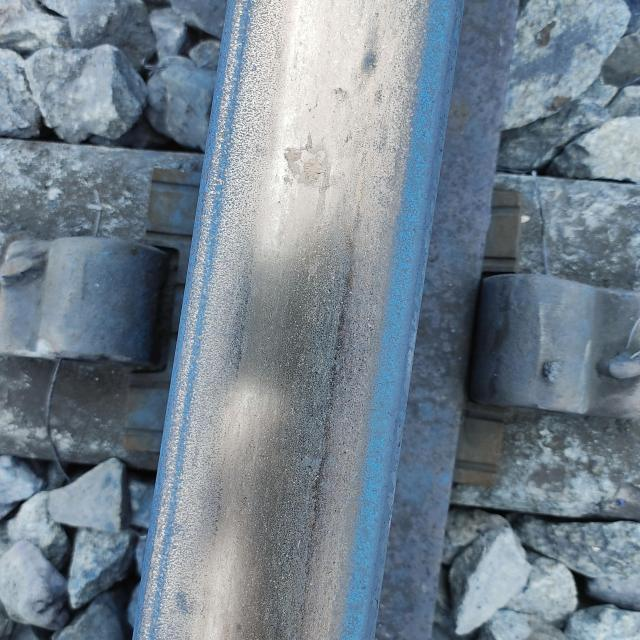Missing Fastener: (0, 207, 245, 403), (452, 253, 640, 461)
